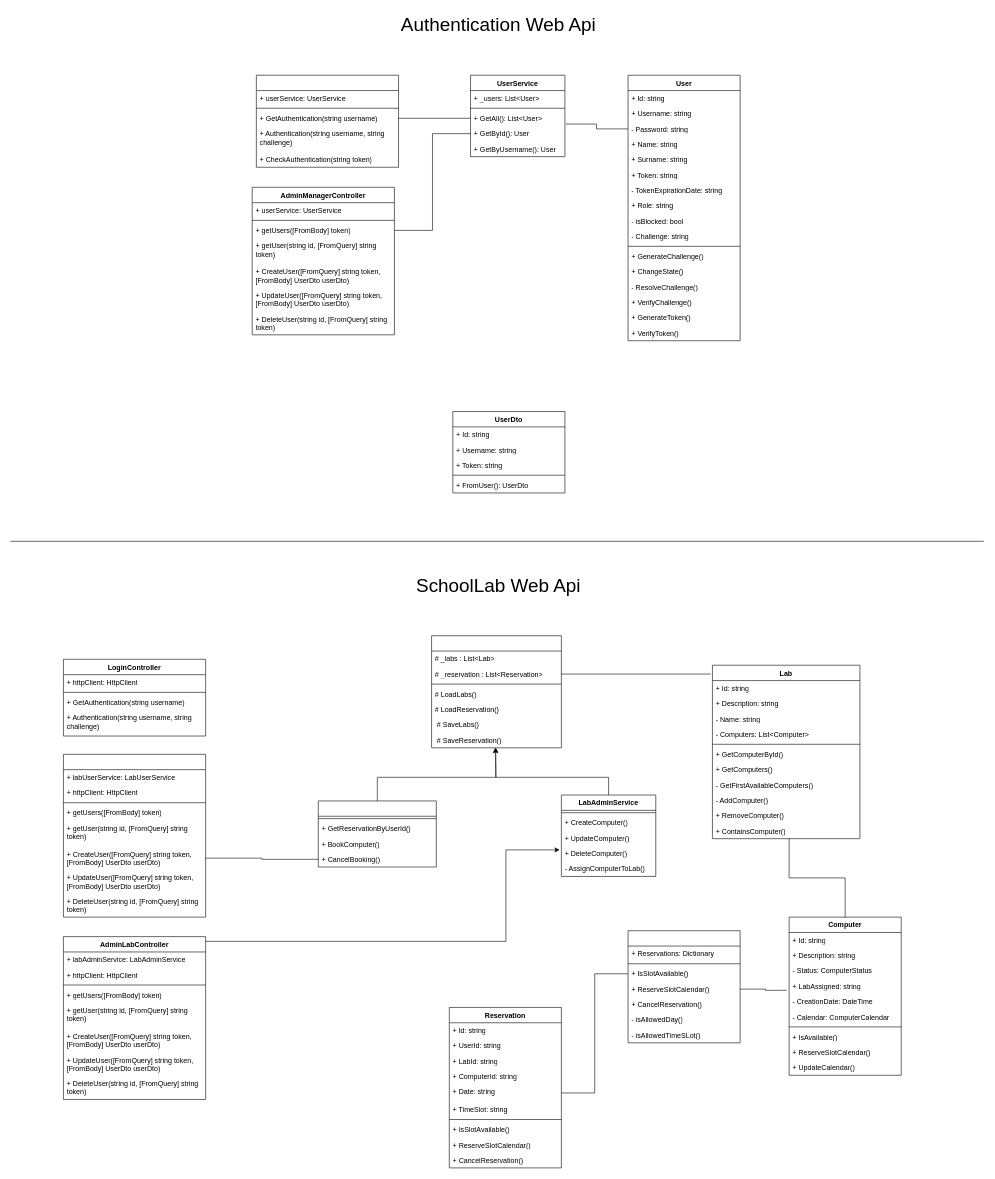
Image size: 995x1179. Some labels were removed from this diagram. Here are the shapes that lost their labels. From the top down, the box of each, then its label:
(256, 75, 399, 167): AuthenticationController
(431, 635, 561, 748): BaseLabService
(63, 754, 206, 917): UserLabController
(318, 800, 436, 867): LabUserService
(627, 930, 740, 1043): ComputerCalendar
